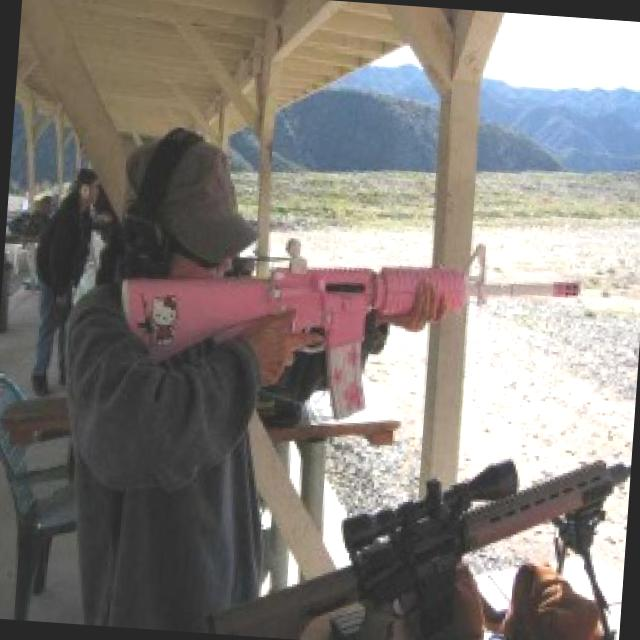long weapon: (85, 216, 574, 397)
